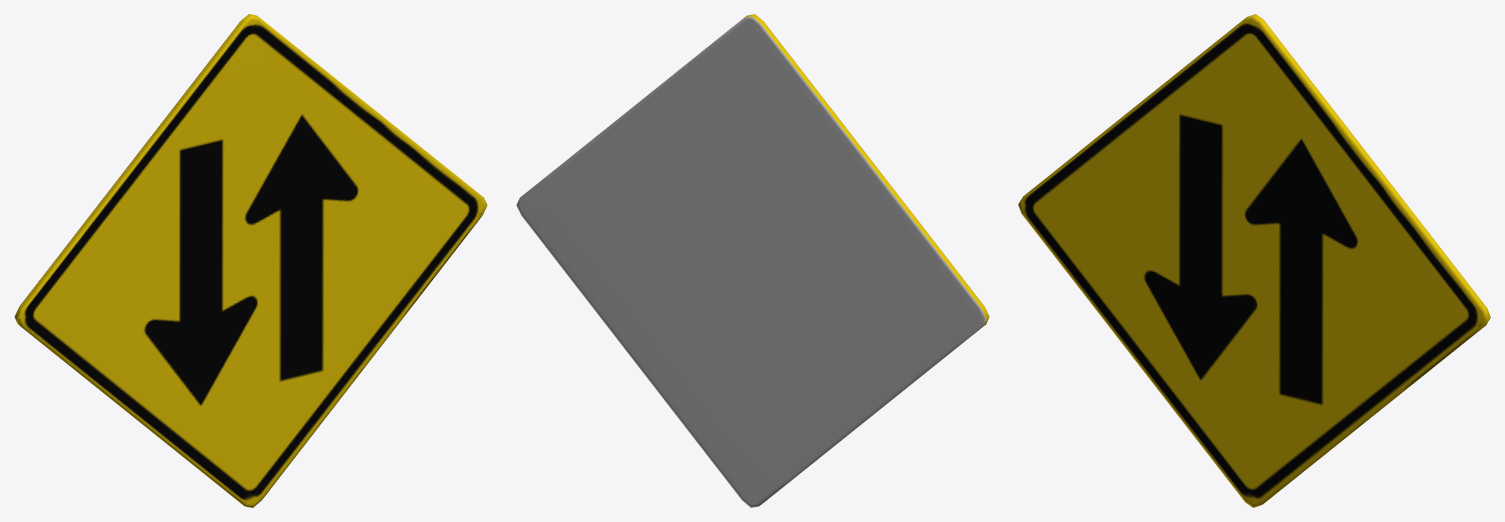
The model's file is DiamondSign.fbx.
3 renders of one model, left to right at view 1: azimuth 30°, elevation 25°; view 2: azimuth 150°, elevation 25°; view 3: azimuth 330°, elevation 25°, orthographic.
Visible parts, largest first — view 1: Sign_LOD0; view 2: Sign_LOD0; view 3: Sign_LOD0.
Part boxes in pixels (x1=…): Sign_LOD0: x1=14, y1=14, x2=487, y2=507; Sign_LOD0: x1=516, y1=14, x2=989, y2=507; Sign_LOD0: x1=1018, y1=14, x2=1490, y2=507.
Size of what is drawn, in the model's own units: 278 by 278 by 3.69.
